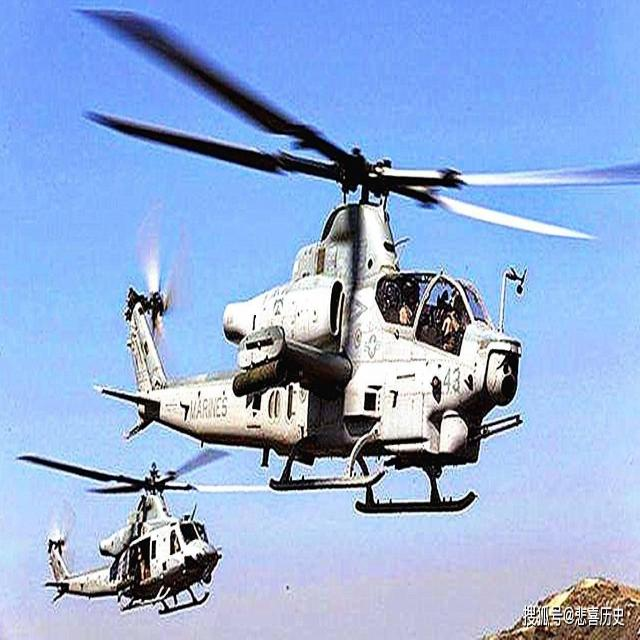MIL_HELO: (73, 7, 640, 516), (11, 445, 273, 614)
